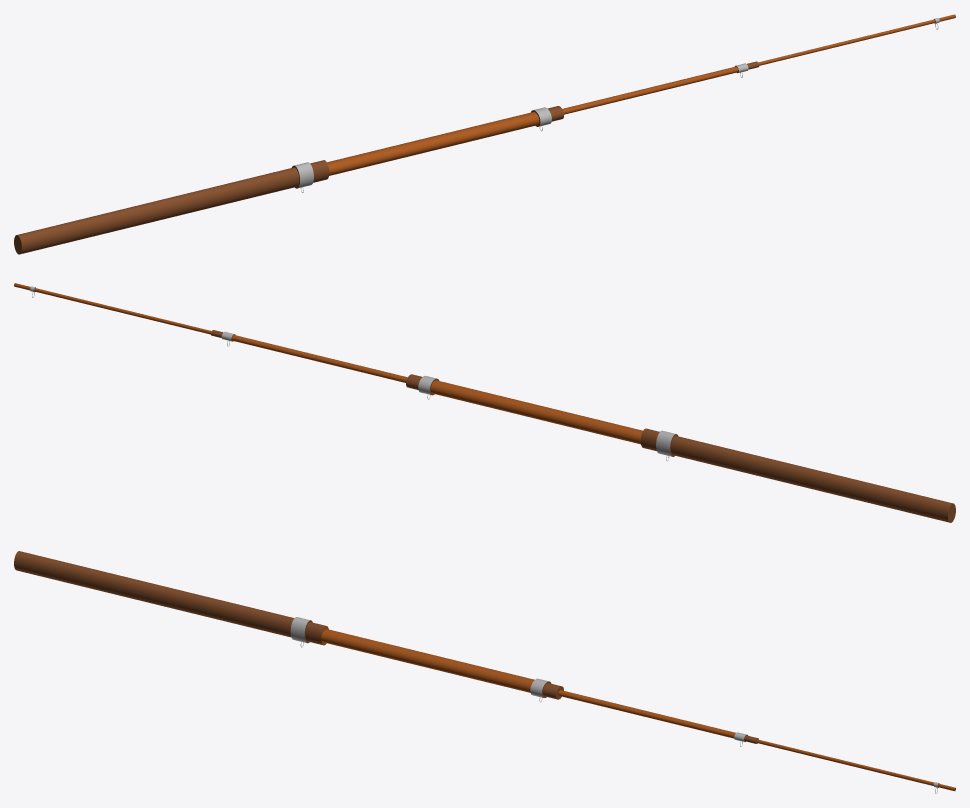
The model's file is FishingRod.fbx.
3 views of the same model, one above another, from view 1: azimuth 30°, elevation 25°; view 2: azimuth 150°, elevation 25°; view 3: azimuth 330°, elevation 25° (orthographic).
Parts seen in each view (by area): view 1: Fishing rod; view 2: Fishing rod; view 3: Fishing rod.
Boxes of the visible parts, <box> form: Fishing rod: <box>14,14,955,254</box>; Fishing rod: <box>14,283,955,522</box>; Fishing rod: <box>14,551,955,793</box>.
Bounding box in the file's own units: 53.03 × 1.54 × 0.9837.
